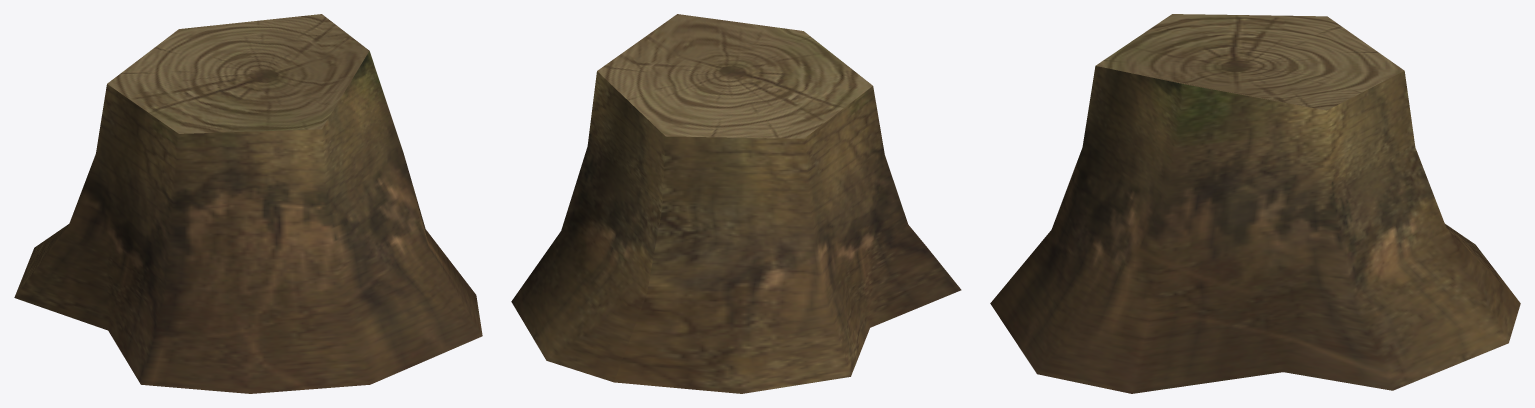
File: Pine_Stump_03.FBX
3 views of the same model, side by side, from view 1: azimuth 30°, elevation 25°; view 2: azimuth 150°, elevation 25°; view 3: azimuth 270°, elevation 25° (orthographic). The views are drawn at different scales.
Visible parts, largest first — view 1: Pine_Stump_03; view 2: Pine_Stump_03; view 3: Pine_Stump_03.
Boxes of the visible parts, x1,y1,x2,y2 form: Pine_Stump_03: [14, 14, 482, 393]; Pine_Stump_03: [511, 14, 961, 393]; Pine_Stump_03: [990, 14, 1520, 393].
Size of the model in its own units: 6.15 by 7.47 by 4.14.
Materials: 2 (2 with a texture image).
